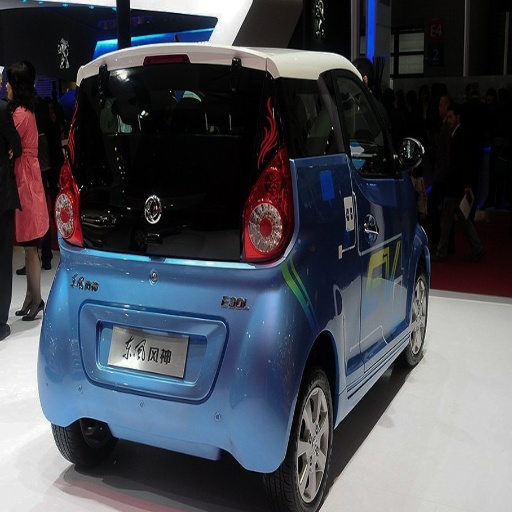back_bumper: (36, 251, 300, 471)
back_glass: (106, 63, 261, 166)
back_right_door: (317, 71, 346, 153), (340, 281, 362, 389)
tailgate: (81, 321, 185, 382)
trunk: (74, 163, 272, 391)
